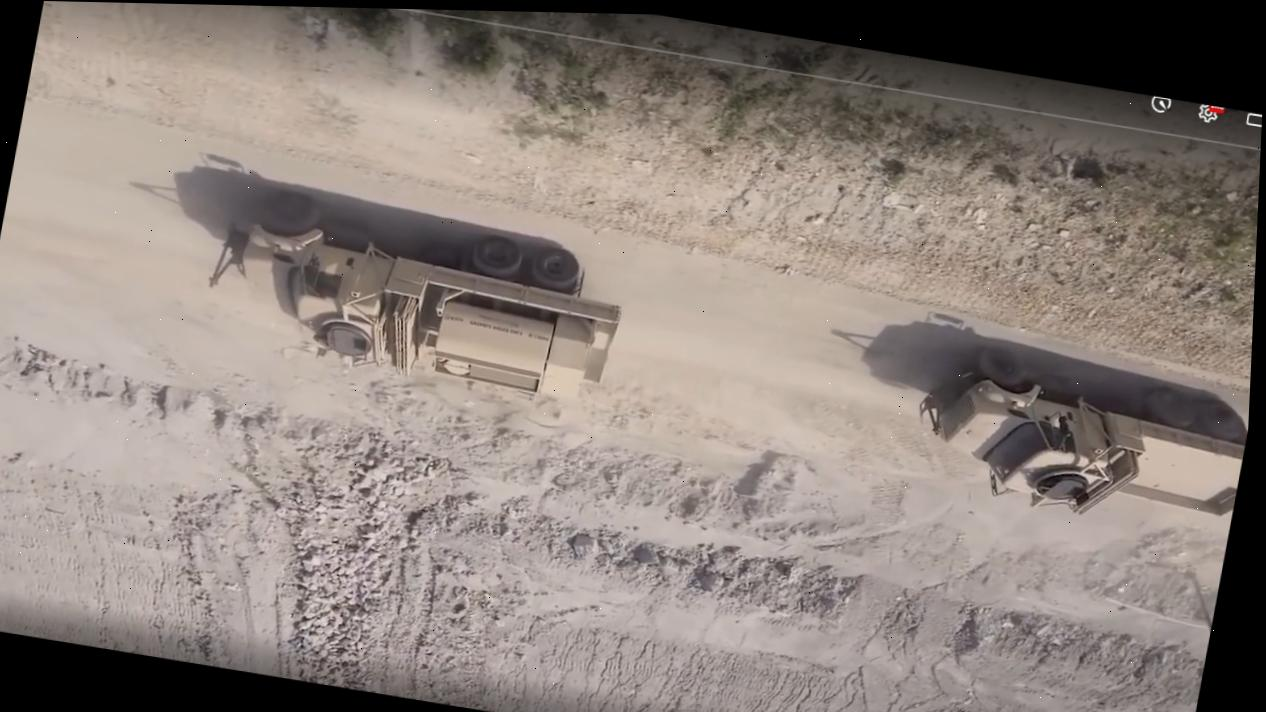truck: (178, 180, 639, 413), (898, 337, 1252, 540)
